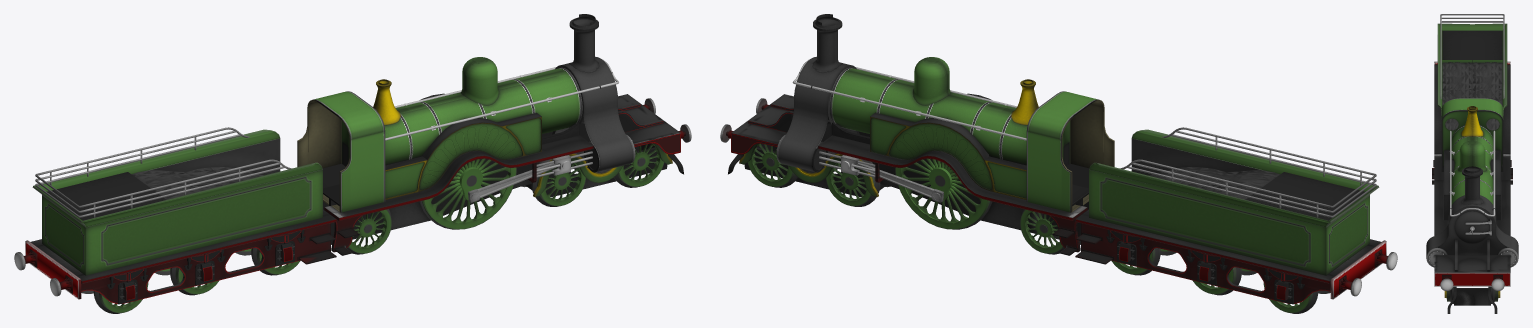
The model's file is Locomotive.glb.
3 views of the same model, side by side, from view 1: azimuth 30°, elevation 25°; view 2: azimuth 150°, elevation 25°; view 3: azimuth 270°, elevation 25° (orthographic). The views are drawn at different scales.
Visible parts, largest first — view 1: Cube.007, Cube.003, Cylinder.003, Cube.004, Cylinder.009, Cube.001, Cube.005, Cylinder.000, Cylinder.007, Cylinder.001, Cube.002, Cube.006 (+3 smaller); view 2: Cube.007, Cube.003, Cylinder.003, Cube.004, Cylinder.009, Cube.001, Cube.005, Cylinder.000, Cylinder.007, Cylinder.001, Cube.002, Cube.006 (+3 smaller); view 3: Cube.007, Cube.003, Cube.002, Cylinder.009, Cylinder.001, Cube.005.
Boxes of the visible parts, x1,y1,x2,y2 form: Cube.007: (297,14,691,255); Cube.003: (14,127,336,303); Cylinder.003: (419,158,516,229); Cube.004: (107,230,305,304); Cylinder.009: (461,57,498,105); Cube.001: (422,126,515,183); Cube.005: (385,156,427,199); Cylinder.000: (521,153,585,206); Cylinder.007: (347,209,391,254); Cylinder.001: (614,143,664,187); Cube.002: (525,143,683,197); Cube.006: (468,163,558,202); Cube.007: (720,14,1114,255); Cube.003: (1075,127,1397,303); Cylinder.003: (895,158,992,229); Cube.004: (1106,230,1304,304); Cylinder.009: (913,57,950,105); Cube.001: (896,126,989,183); Cube.005: (984,156,1026,199); Cylinder.000: (826,153,890,206); Cylinder.007: (1020,209,1064,254); Cylinder.001: (747,143,797,187); Cube.002: (728,143,886,197); Cube.006: (853,163,943,202); Cube.007: (1426,98,1518,297); Cube.003: (1432,14,1512,179); Cube.002: (1447,286,1497,313); Cylinder.009: (1458,140,1486,171); Cylinder.001: (1446,286,1498,303); Cube.005: (1444,150,1500,159).
Bounding box in the file's own units: 16.98 × 4.29 × 2.98.
Materials: 11 (11 with a texture image).
